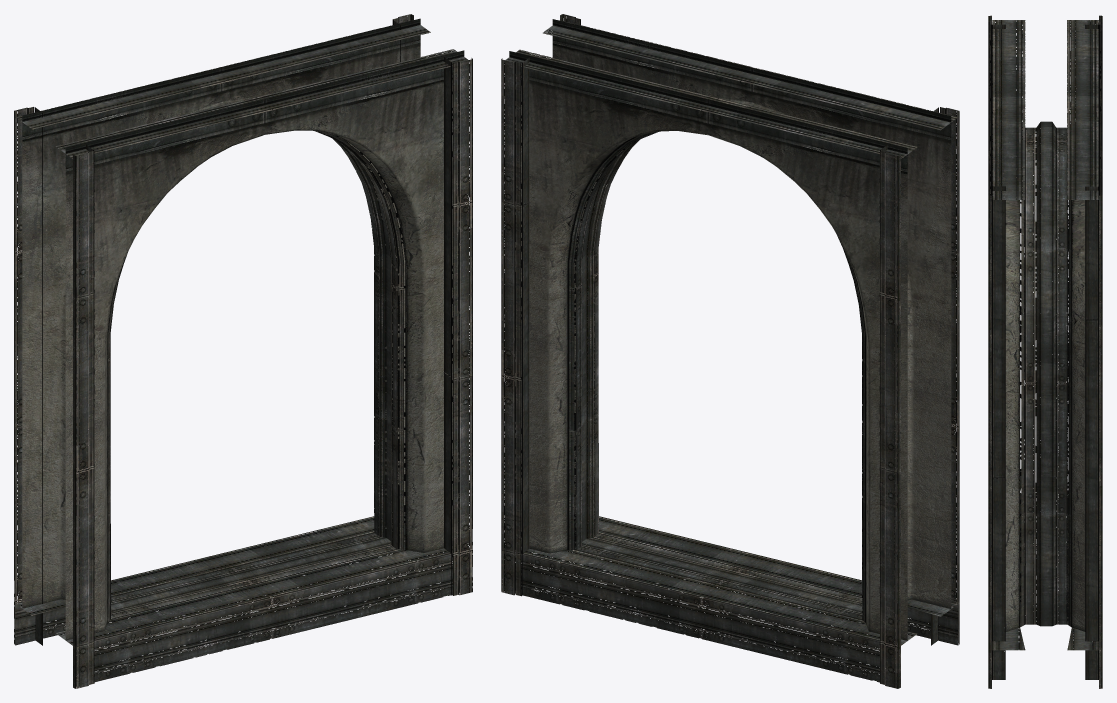
The model's file is tesla_modules1_doorframe_low_03.dae.
3 renders of one model, left to right at view 1: azimuth 30°, elevation 25°; view 2: azimuth 150°, elevation 25°; view 3: azimuth 270°, elevation 25°, orthographic. The views are drawn at different scales.
Parts seen in each view (by area): view 1: polySurface245, doorframe_01_arch; view 2: polySurface245, doorframe_01_arch; view 3: polySurface245, doorframe_01_arch.
Part boxes in pixels (left/top/right/bottom): polySurface245: left=14, top=14, right=472, bottom=688; doorframe_01_arch: left=22, top=18, right=464, bottom=640; polySurface245: left=501, top=14, right=959, bottom=688; doorframe_01_arch: left=509, top=19, right=951, bottom=640; polySurface245: left=988, top=15, right=1102, bottom=688; doorframe_01_arch: left=1005, top=124, right=1085, bottom=631.
Bounding box in the file's own units: 4 × 5.13 × 1.07.
